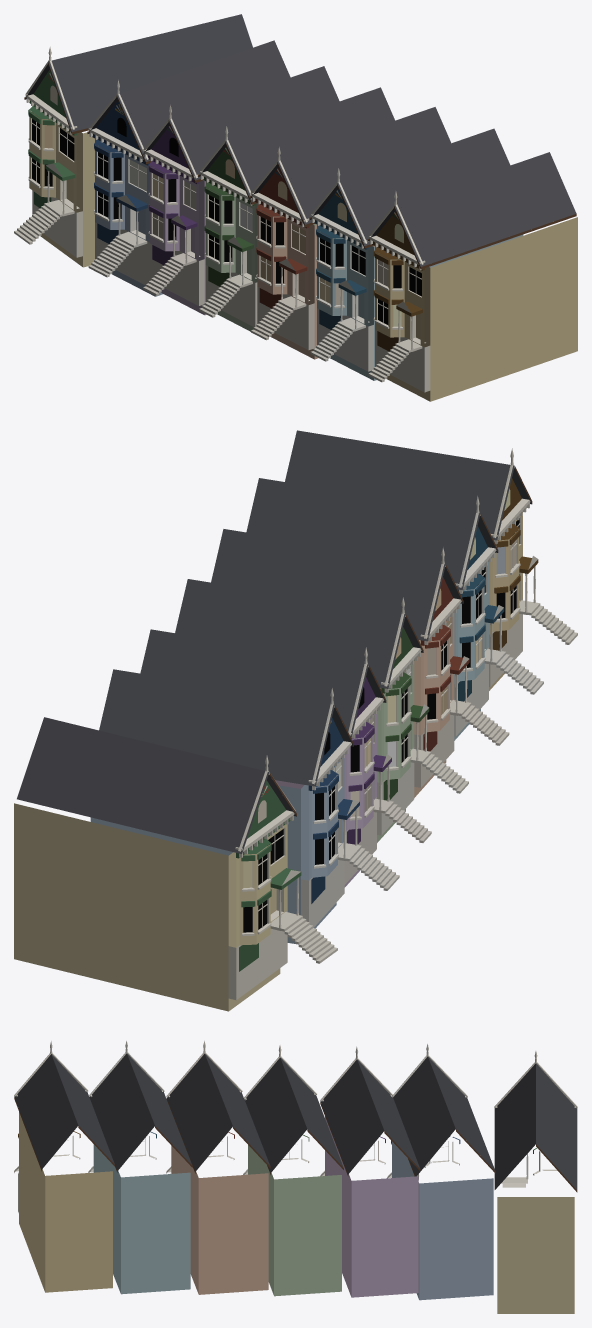
File: paintedLadies_lod0.glb
The picture shows the model from 3 angles, top to bottom: view 1: azimuth 30°, elevation 25°; view 2: azimuth 150°, elevation 25°; view 3: azimuth 270°, elevation 25°; orthographic projection. The views are drawn at different scales.
Parts seen in each view (by area): view 1: L0_roof, L0_stucco, L0_clap, L0_paint, L0_wood, L0_win; view 2: L0_roof, L0_stucco, L0_clap, L0_paint, L0_wood, L0_win; view 3: L0_stucco, L0_roof, L0_paint, L0_wood.
Boxes of the visible parts, box(x1,y1,x2,y2) form: L0_roof: box(24, 14, 576, 266); L0_stucco: box(40, 132, 577, 401); L0_clap: box(29, 69, 430, 392); L0_paint: box(25, 46, 425, 349); L0_wood: box(14, 62, 576, 382); L0_win: box(32, 85, 421, 326); L0_roof: box(17, 430, 531, 853); L0_stucco: box(14, 562, 504, 1011); L0_clap: box(228, 478, 522, 999); L0_paint: box(235, 448, 538, 936); L0_wood: box(239, 466, 577, 971); L0_win: box(243, 488, 519, 932); L0_stucco: box(19, 1112, 574, 1313); L0_roof: box(14, 1053, 577, 1189); L0_paint: box(14, 1040, 577, 1187); L0_wood: box(14, 1097, 577, 1192).
Bounding box in the file's own units: 26.62 × 22.27 × 52.06.
